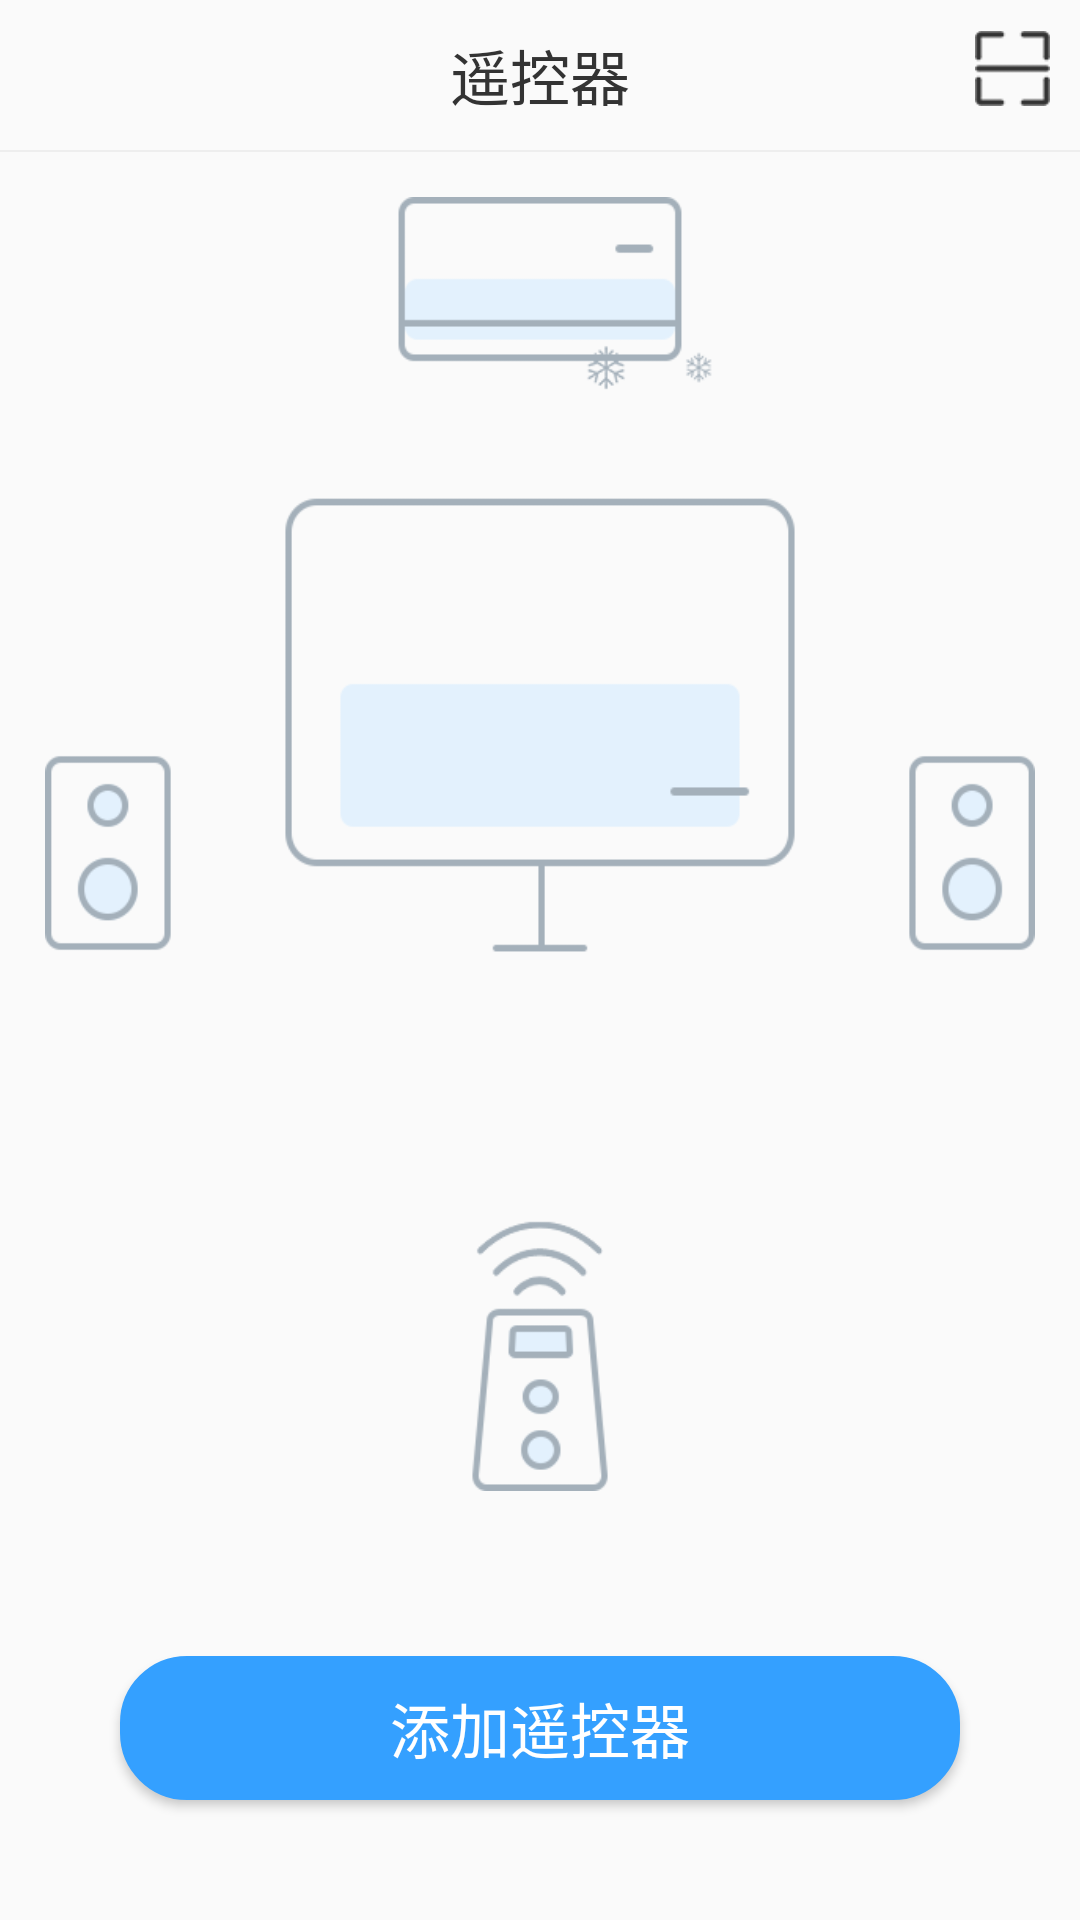

Locate icon controls on the screen. Image size 1080px x 1920px, boxes as (left=x1, top=y1, right=x2, bottom=y2).
scan it: (left=975, top=31, right=1050, bottom=106)
